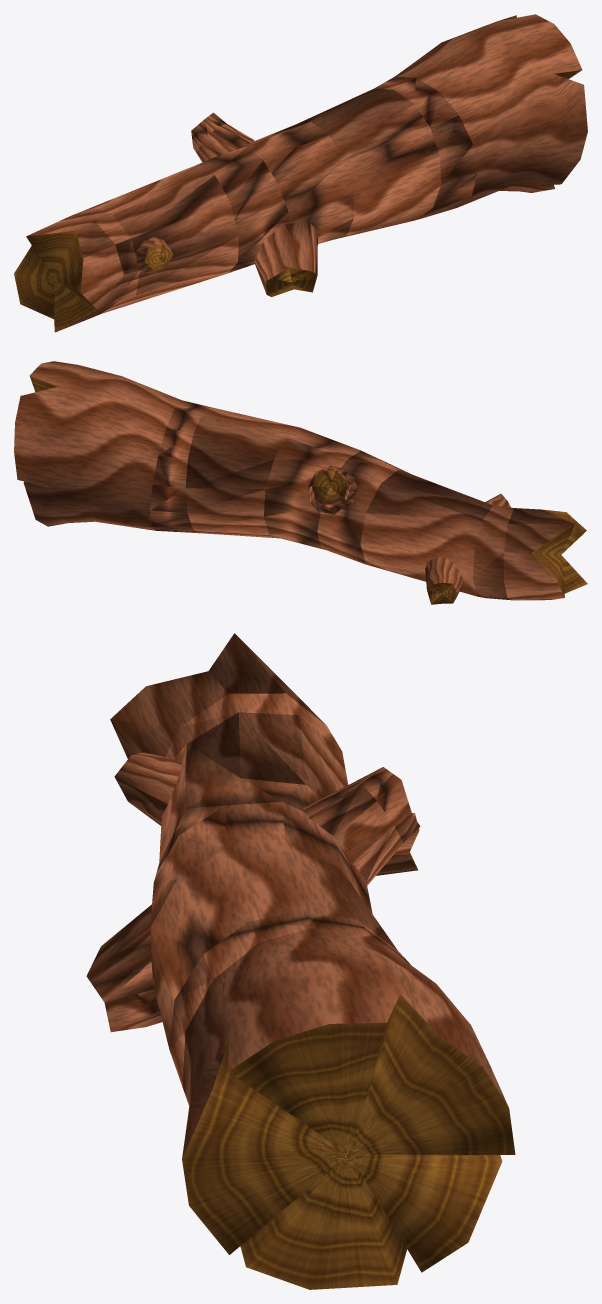
File: tree_bad_01.FBX
3 renders of one model, top to bottom at view 1: azimuth 30°, elevation 25°; view 2: azimuth 150°, elevation 25°; view 3: azimuth 270°, elevation 25°, orthographic. The views are drawn at different scales.
Parts seen in each view (by area): view 1: tree_bad_01; view 2: tree_bad_01; view 3: tree_bad_01.
Boxes of the visible parts, x1,y1,x2,y2 form: tree_bad_01: (14, 14, 587, 332); tree_bad_01: (14, 361, 587, 604); tree_bad_01: (86, 633, 515, 1289).
Size of the model in its own units: 325 by 89.86 by 118.
